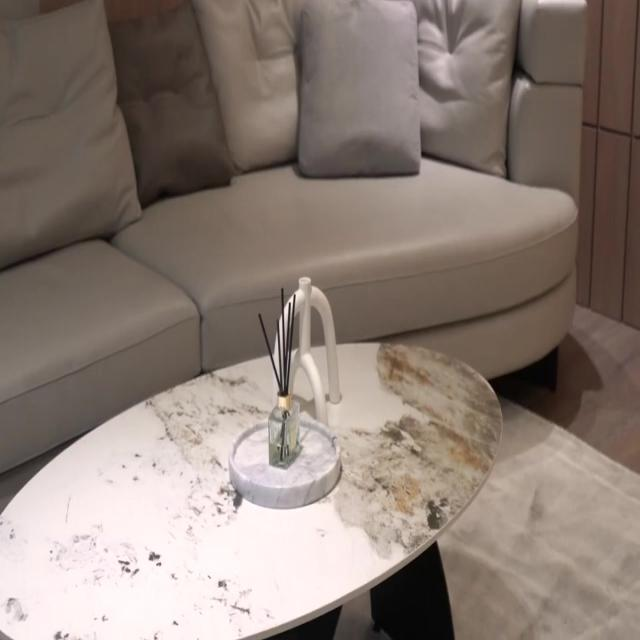obstacle: (0, 0, 588, 476), (0, 338, 503, 638)
